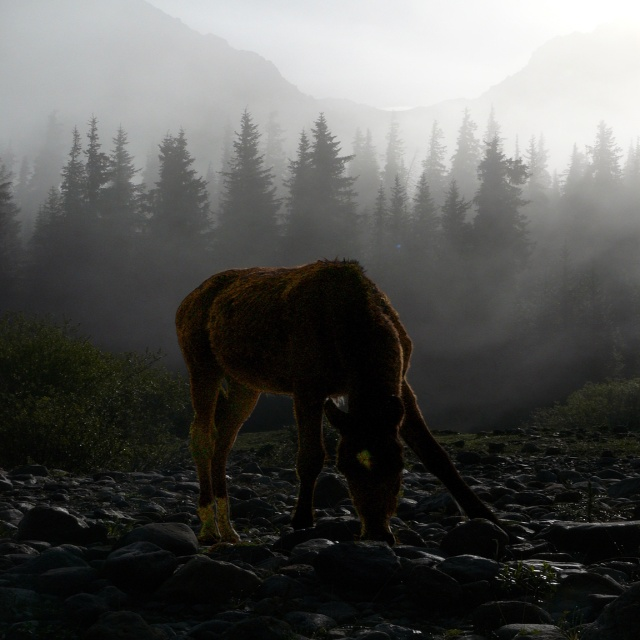Horse: (169, 257, 502, 550)
